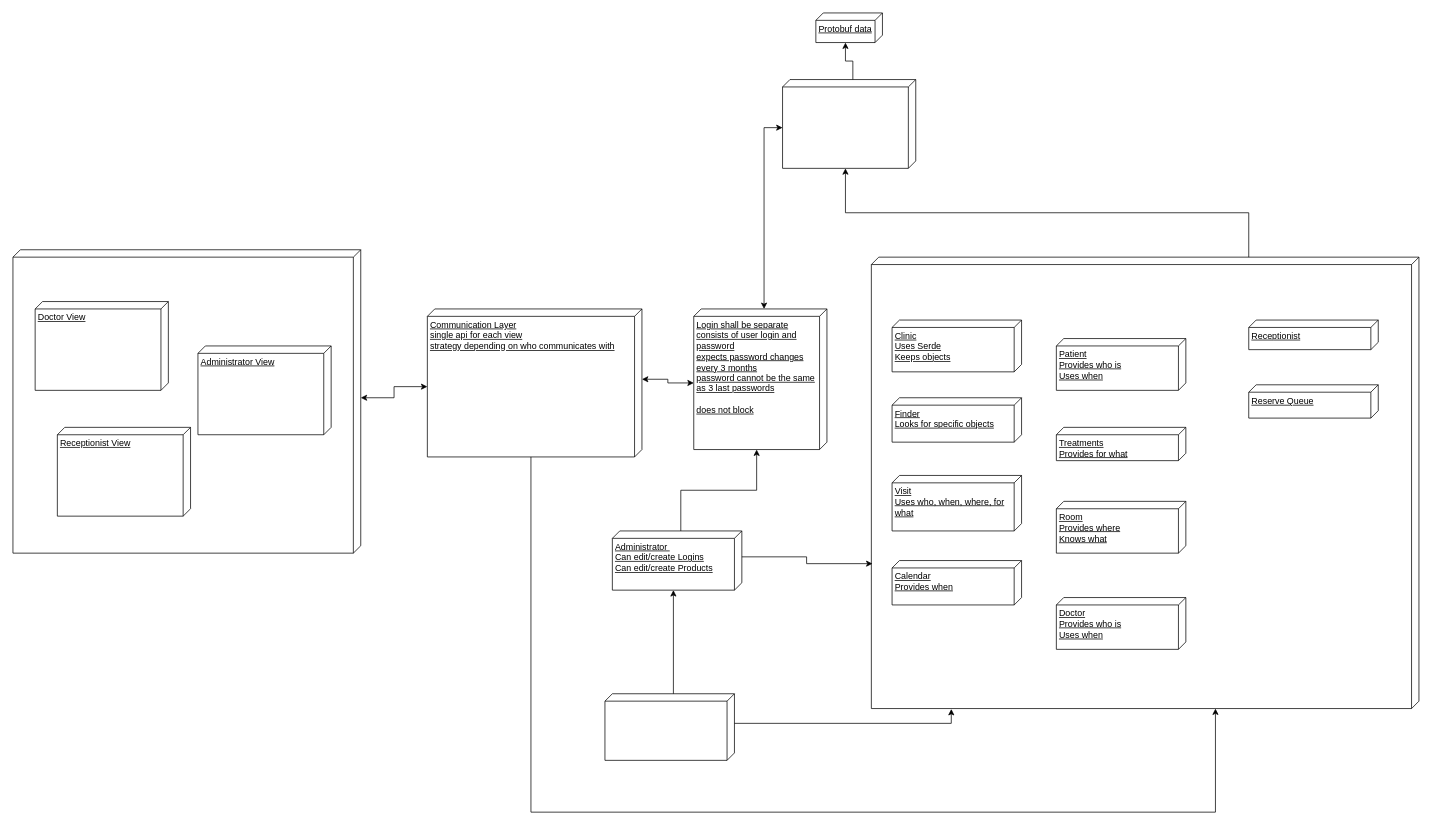
Some shapes in this 1432 by 831 pixel diagram are drawn without their labels. The box of each missing label's shape, as (x1, y1, x2, y2) in pixels:
Front: (12, 249, 361, 553)
Serde layer serialization and deserialization fills clinic: (782, 79, 916, 168)
Warehouse - separate entity Provides what: (604, 693, 734, 760)
